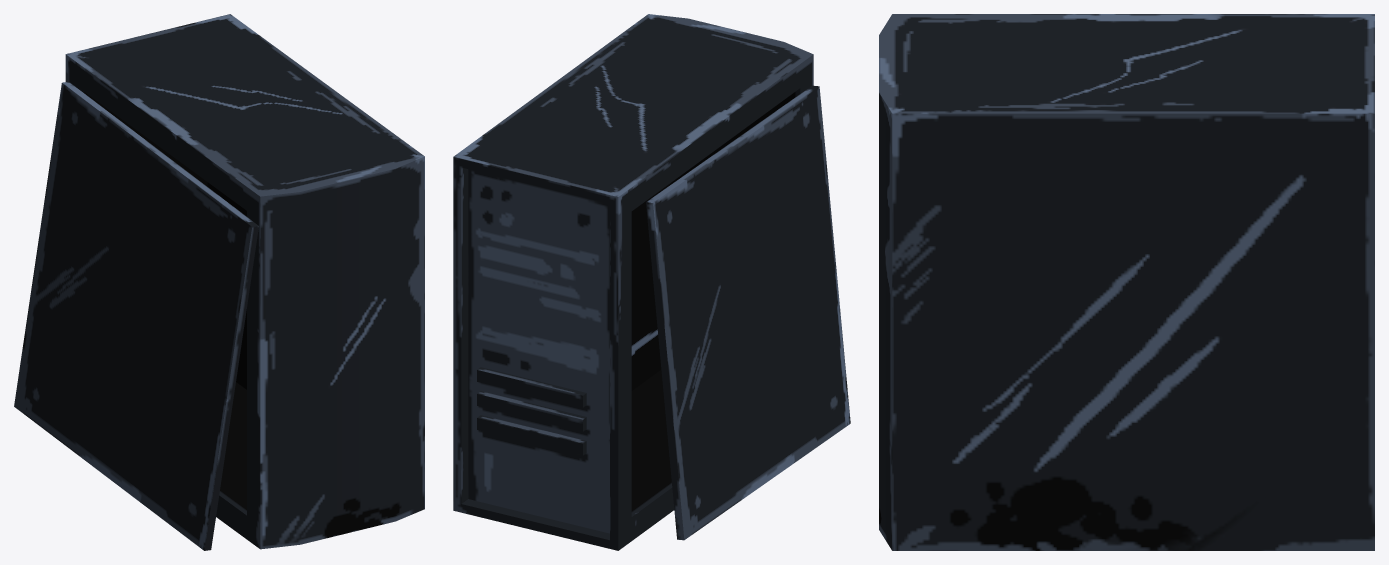
File: Computer_1.glb
3 views of the same model, side by side, from view 1: azimuth 30°, elevation 25°; view 2: azimuth 150°, elevation 25°; view 3: azimuth 270°, elevation 25° (orthographic). The views are drawn at different scales.
Visible parts, largest first — view 1: Computer_1; view 2: Computer_1; view 3: Computer_1.
Part boxes in pixels (<box>): Computer_1: <box>14,14,424,550</box>; Computer_1: <box>453,14,850,550</box>; Computer_1: <box>879,14,1374,550</box>.
Bounding box in the file's own units: 0.298 × 0.4496 × 0.4619.
Materials: 1 (1 with a texture image).
